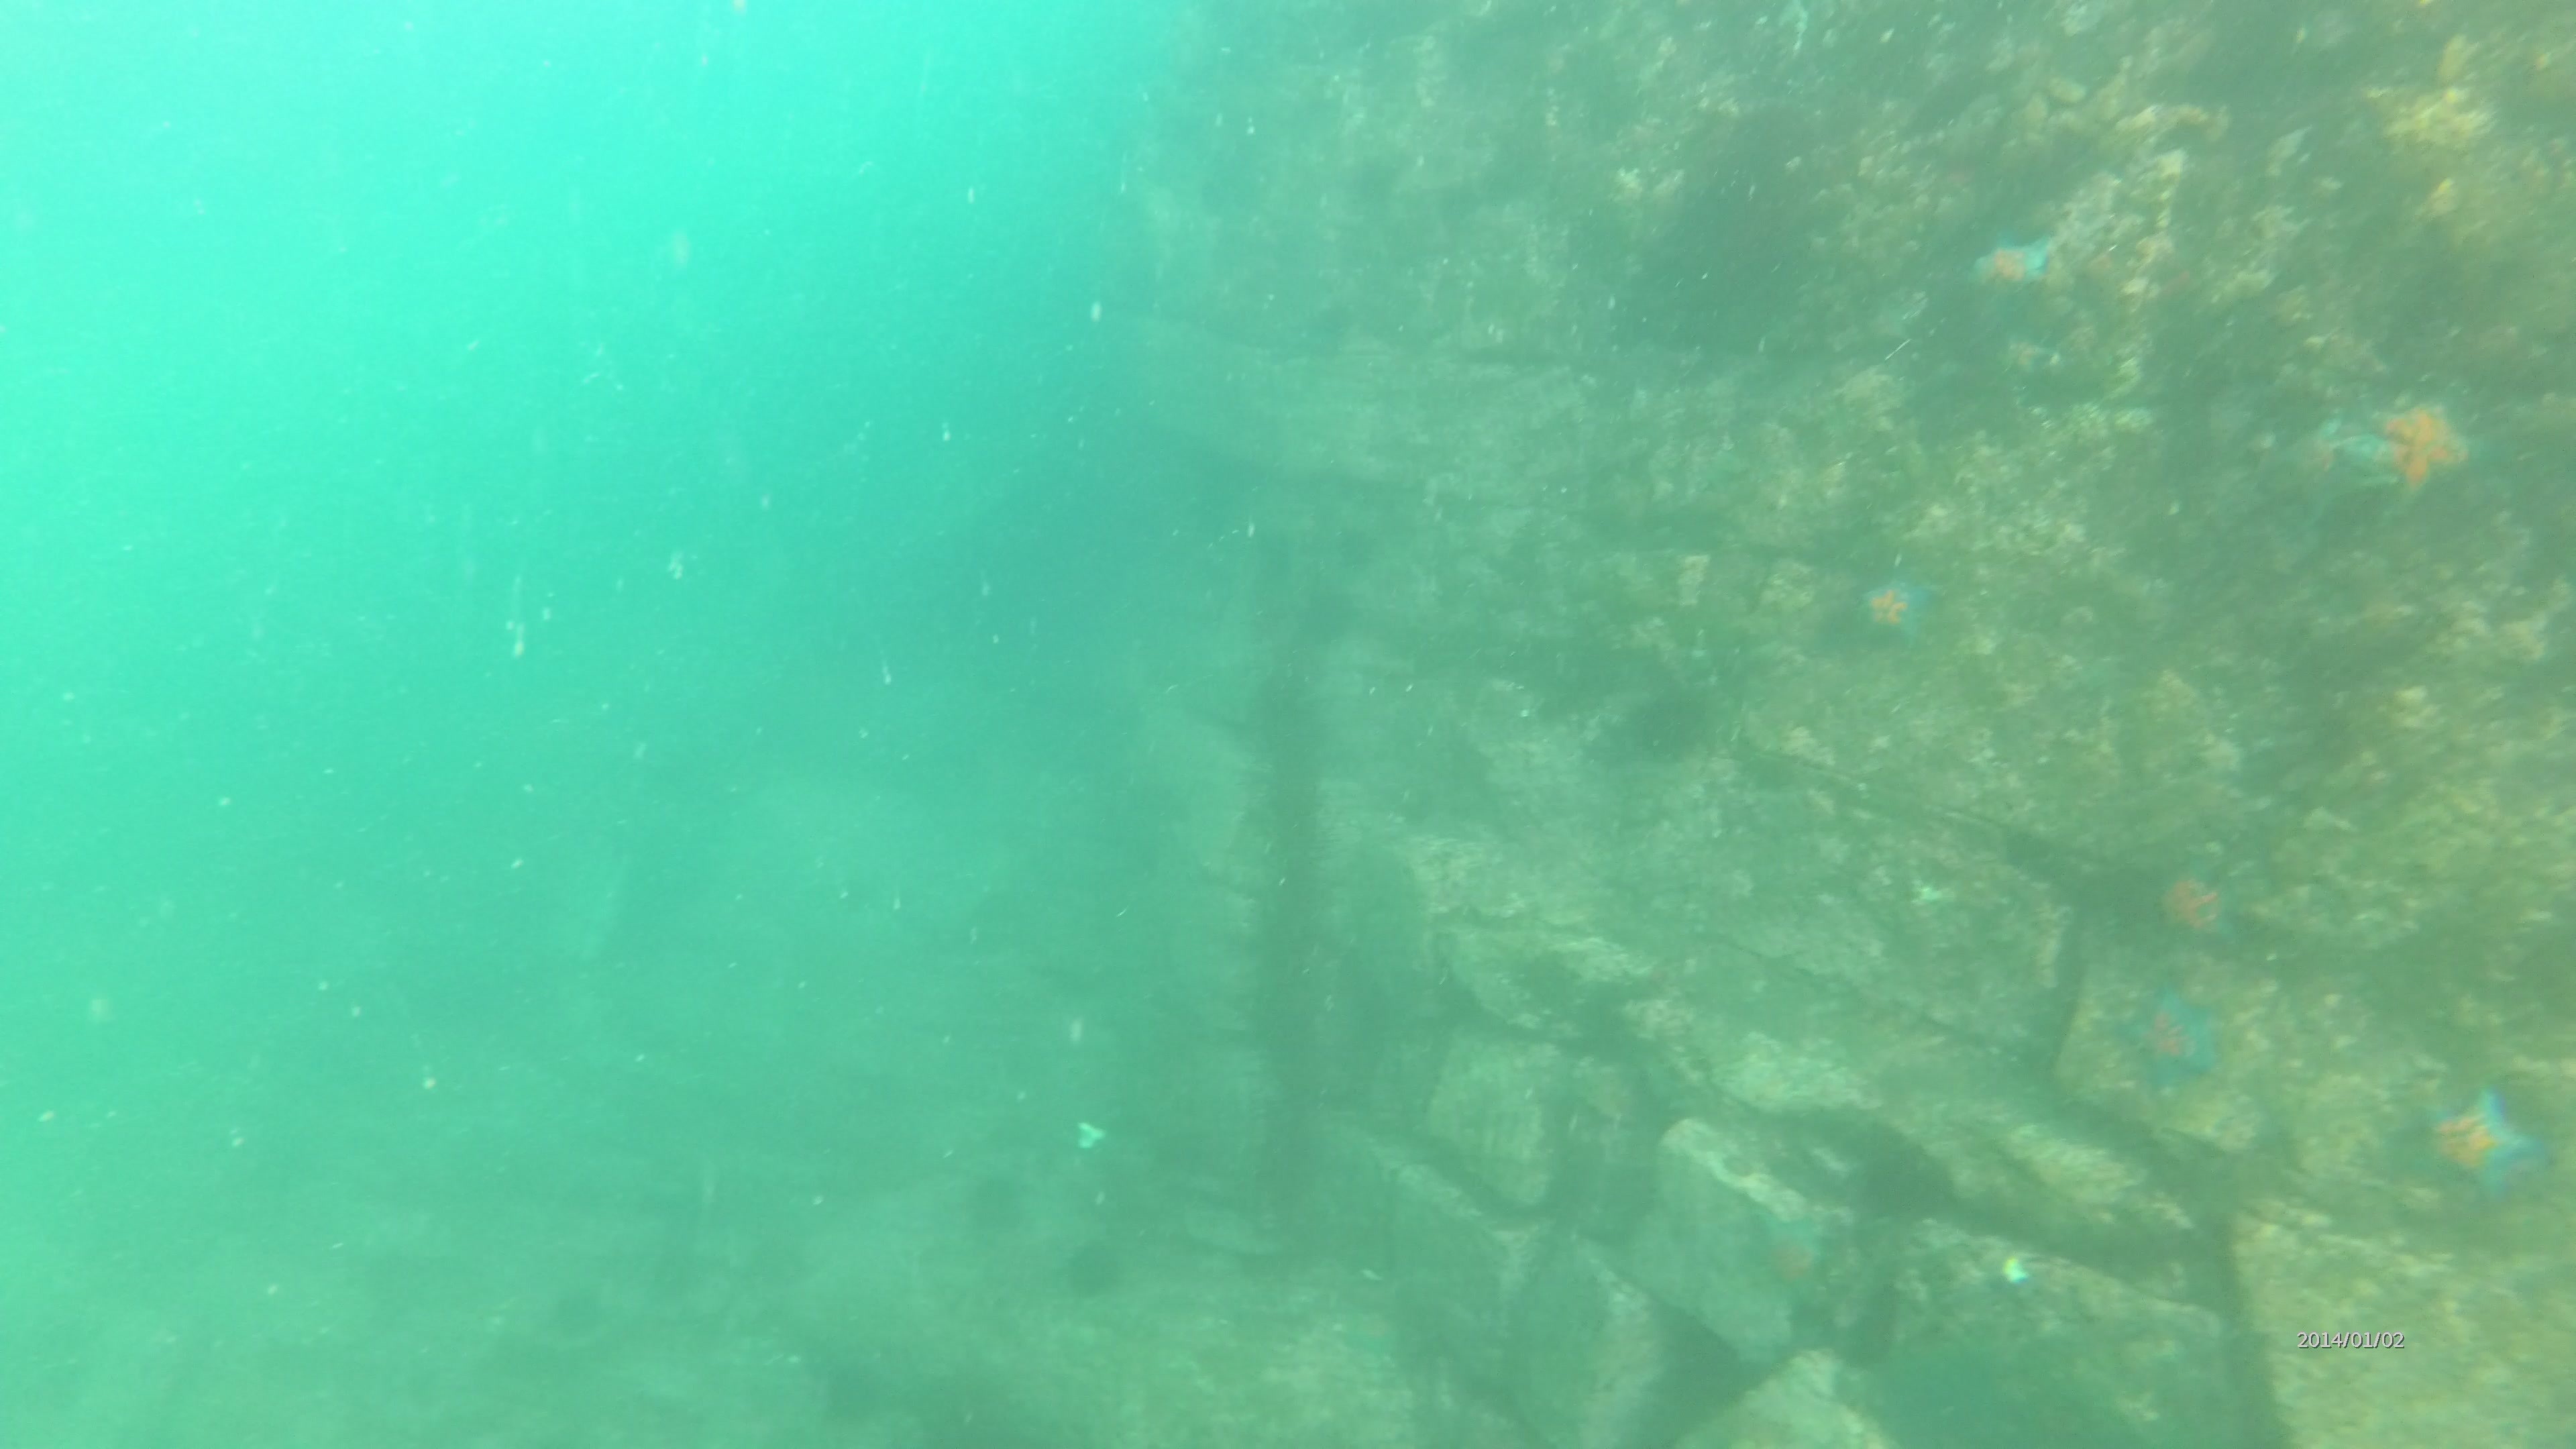echinus: (541, 1277, 619, 1366), (812, 1350, 888, 1419), (1049, 1233, 1123, 1302), (970, 1168, 1040, 1231)
starfish: (2355, 366, 2509, 520), (2417, 1081, 2541, 1205), (2256, 410, 2387, 525), (2109, 985, 2226, 1092), (2141, 849, 2256, 950), (1851, 564, 1948, 658), (1746, 1208, 1833, 1306), (1973, 225, 2054, 297)
